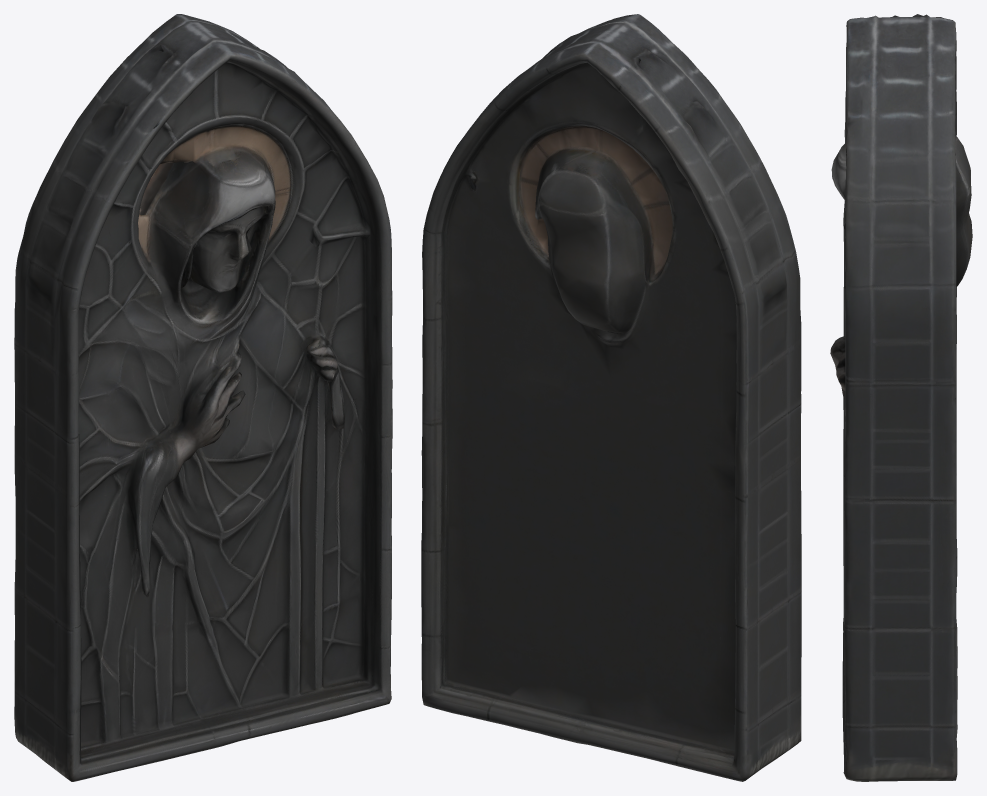
The model's file is stained_glass_window.glb.
3 renders of one model, left to right at view 1: azimuth 30°, elevation 25°; view 2: azimuth 150°, elevation 25°; view 3: azimuth 270°, elevation 25°, orthographic.
Bounding box in the file's own units: 0.9874 × 2 × 0.3753.
1 material, 1 textured.
